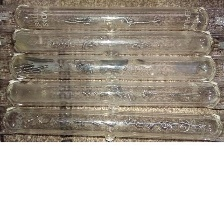light_bulb: (0, 105, 224, 143), (5, 25, 214, 59), (6, 51, 221, 83), (0, 80, 222, 108), (10, 2, 213, 32)
